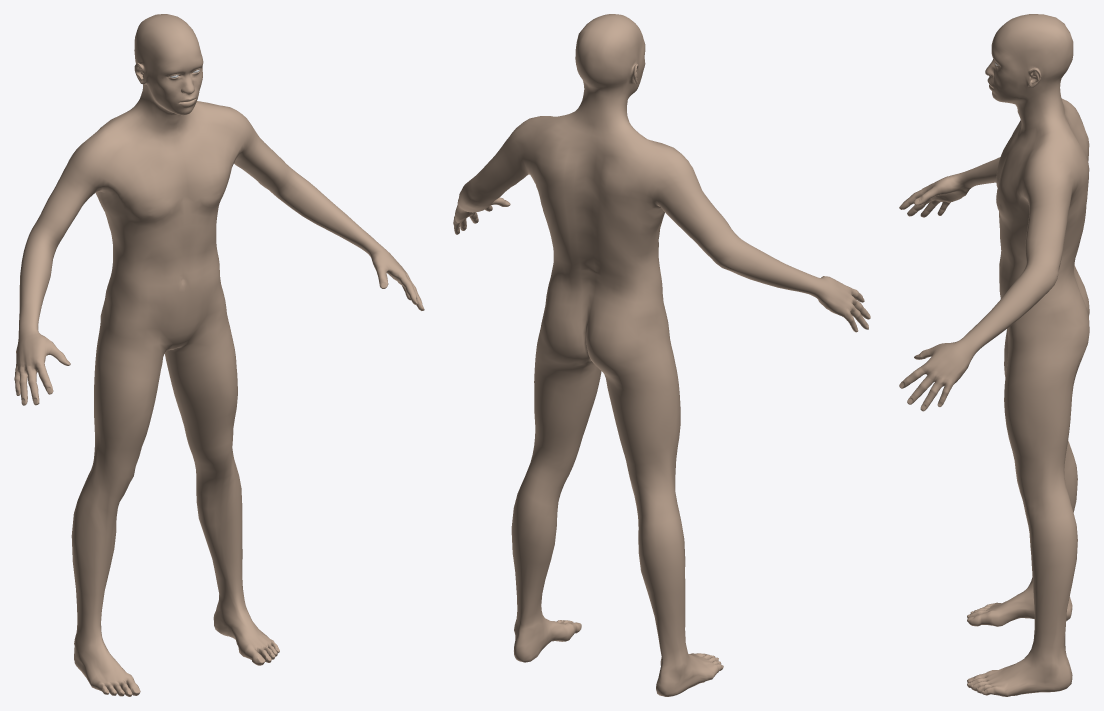
3 views of the same model, side by side, from view 1: azimuth 30°, elevation 25°; view 2: azimuth 150°, elevation 25°; view 3: azimuth 270°, elevation 25° (orthographic).
Parts seen in each view (by area): view 1: base_humanMesh; view 2: base_humanMesh; view 3: base_humanMesh.
Boxes of the visible parts, x1,y1,x2,y2 form: base_humanMesh: (14, 14, 424, 696); base_humanMesh: (453, 14, 870, 696); base_humanMesh: (899, 14, 1089, 696).
Size of the model in its own units: 1.29 by 1.97 by 0.5339.
